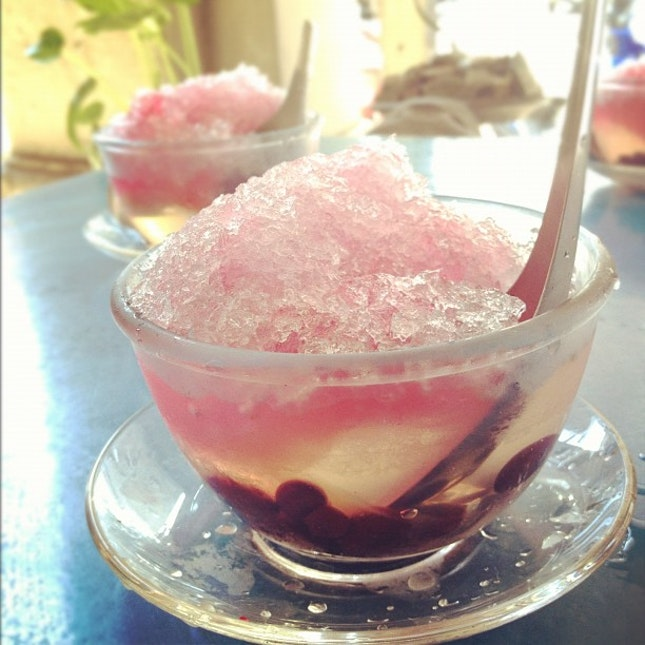O-eo: (127, 139, 625, 597)
